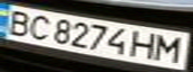2: (66, 19, 90, 49)
4: (106, 25, 133, 56)
7: (87, 21, 109, 53)
8: (48, 16, 75, 46)
B: (0, 7, 36, 37)
C: (24, 11, 54, 42)
H: (127, 29, 160, 61)
M: (151, 34, 187, 64)
